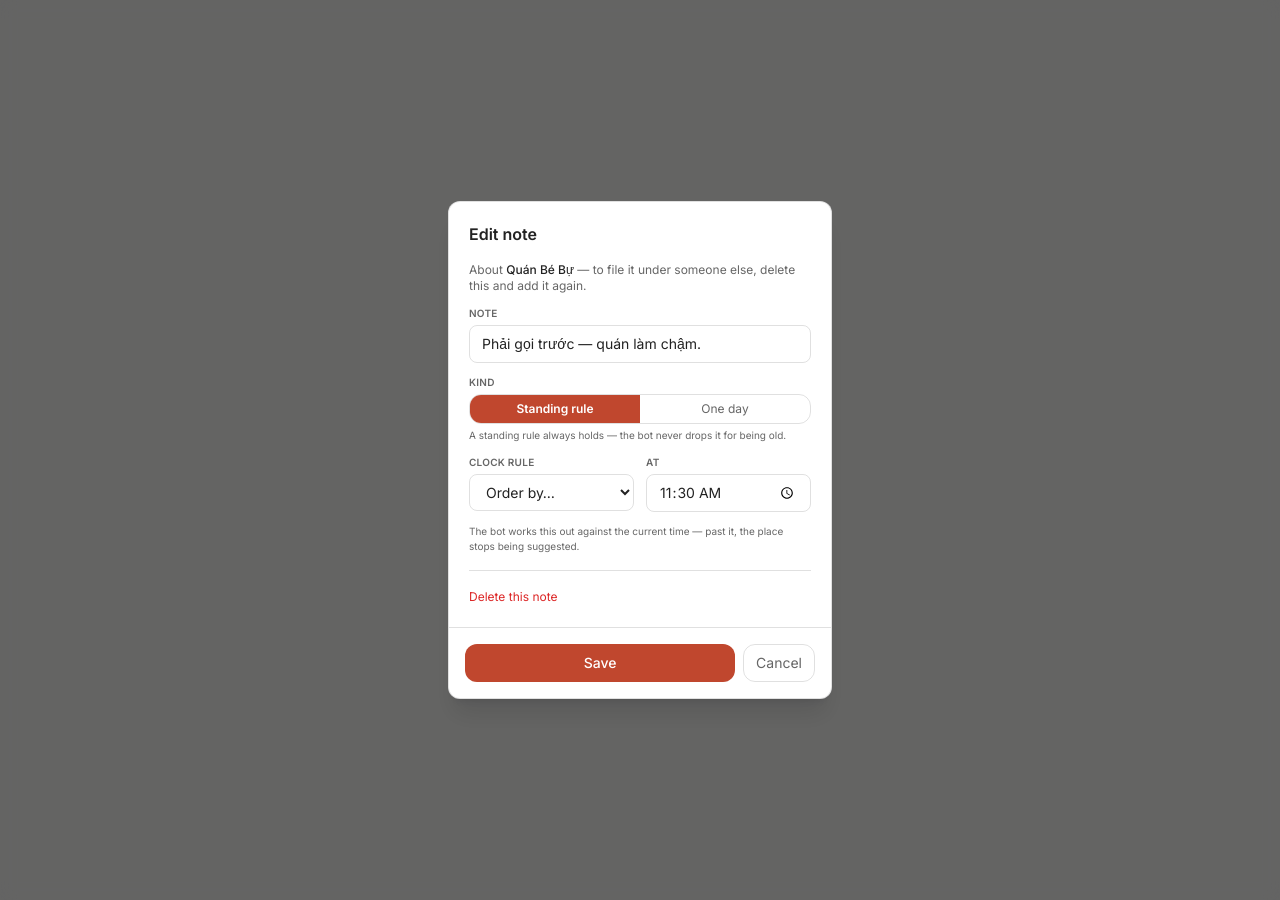
Test: NoteDialog — the standing/dated choice › spells out what each kind means, because it decides whether the note decays
The image size is (1280, 900).
expect the text "never drops it for being old" is shown: met, box [469,429,786,441]
expect the field labelled "Date" is not shown: met
Click the button "One day": (725, 409) [640,395,810,423]
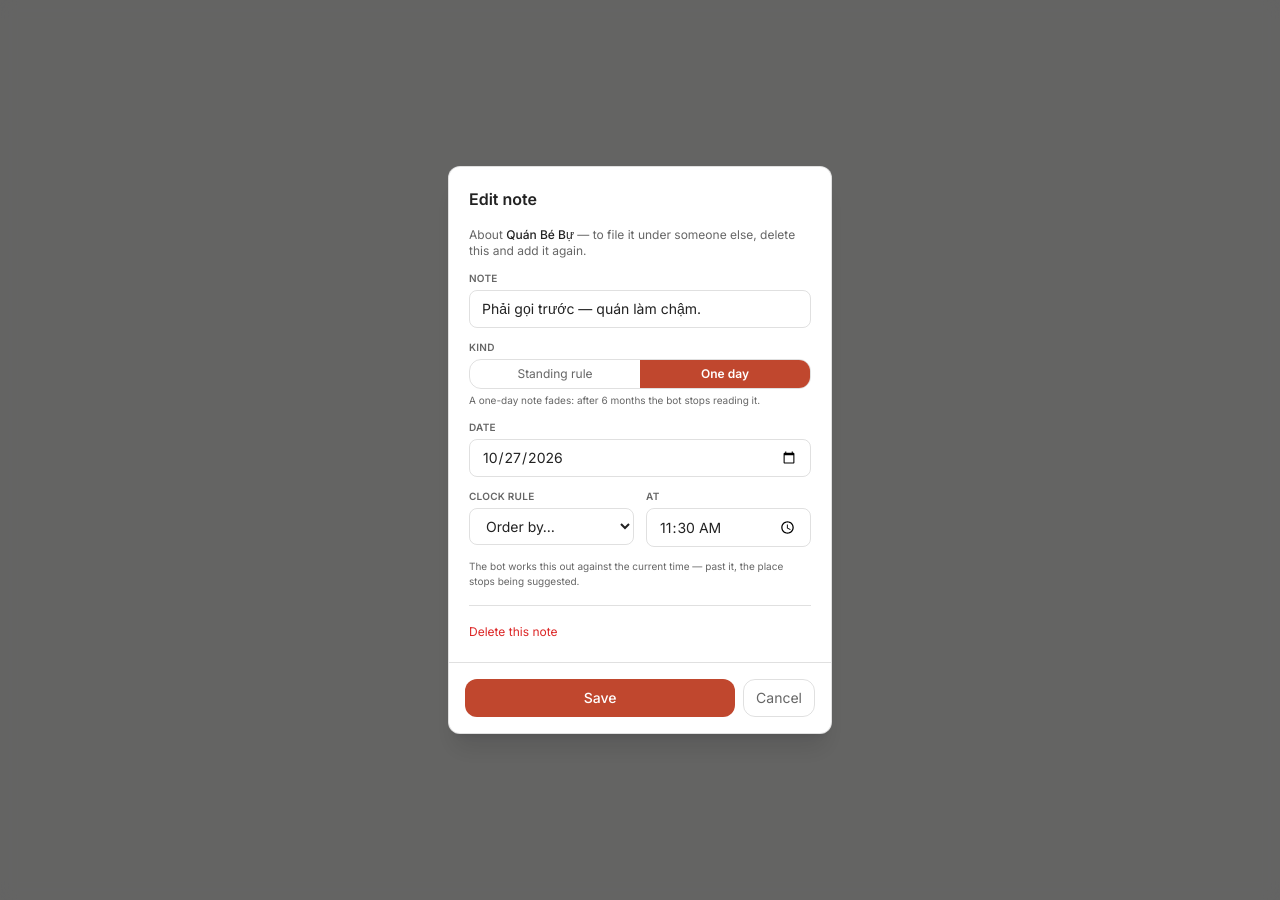
expect the text "after 6 months the bot stops reading it" is shown: met, box [469,394,760,406]
expect the date field labelled "Date" is shown: met, box [469,439,811,477]
